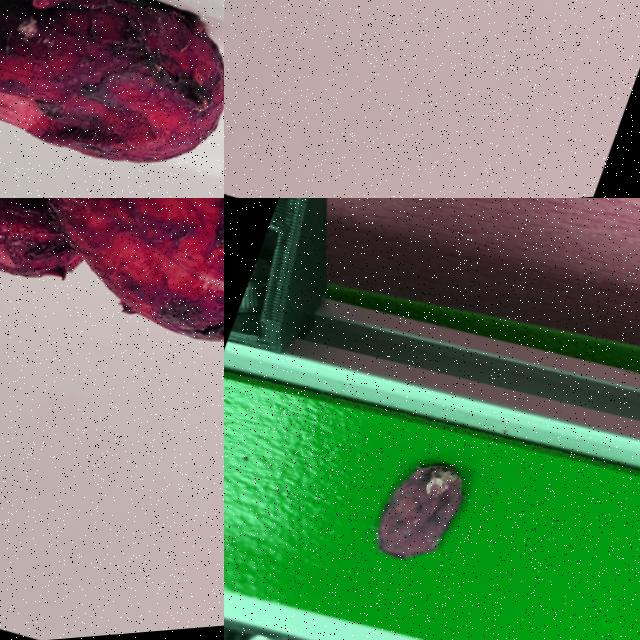Agglomerated_cocoabeans: (0, 198, 223, 460)
Fine_cocoabeans: (0, 0, 223, 197)
Flat_cocoabeans: (294, 401, 543, 635)
